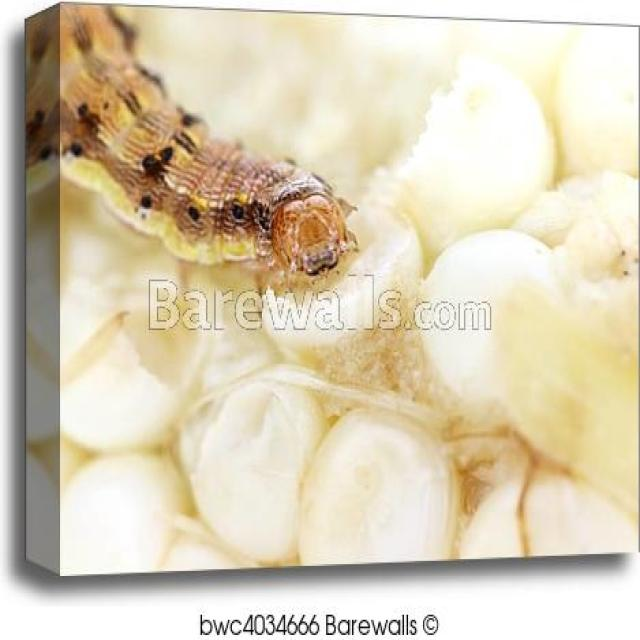Corn-earworm: (36, 5, 353, 276)
